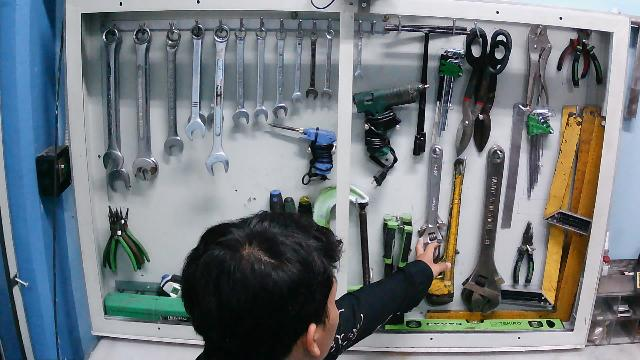kunci_inggris: (416, 138, 449, 266)
